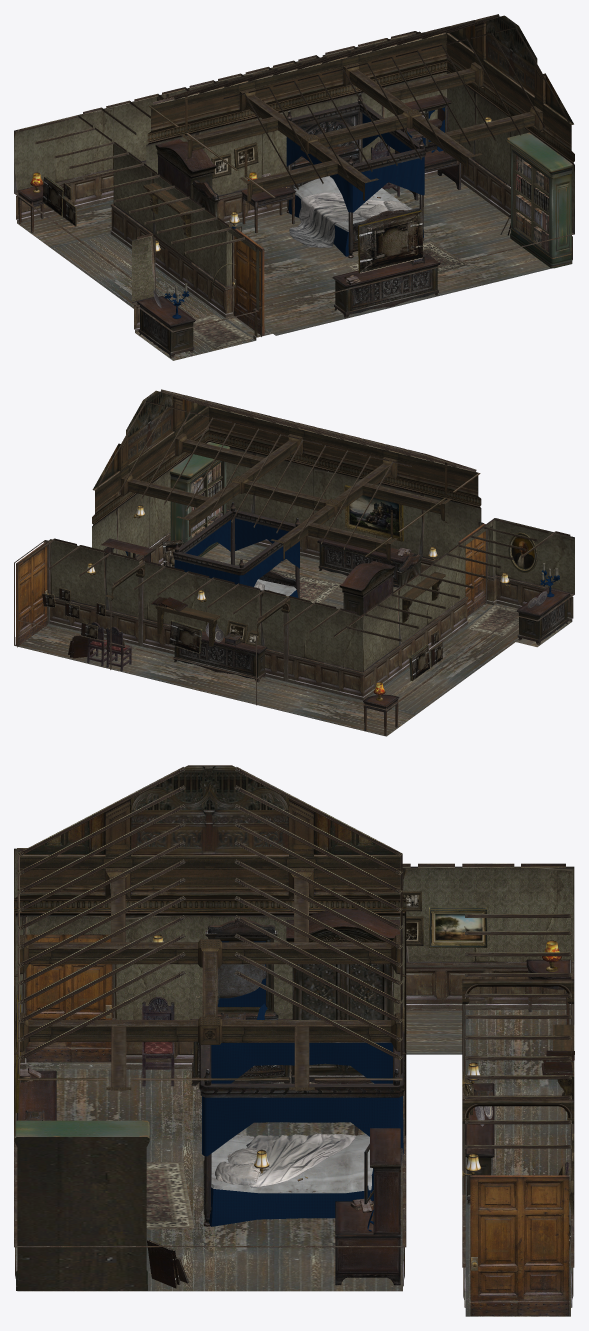
The model's file is room5.glb.
The picture shows the model from 3 angles, top to bottom: view 1: azimuth 30°, elevation 25°; view 2: azimuth 150°, elevation 25°; view 3: azimuth 270°, elevation 25°; orthographic projection. The views are drawn at different scales.
Parts seen in each view (by area): view 1: FrontSide_10, FrontSide_2, FrontSide_12, FrontSide_16, FrontSide_9, FrontSide_19, FrontSide_5, FrontSide_20, BackSide_2, FrontSide_13, FrontSide_1, FrontSide_6 (+1 smaller); view 2: FrontSide_12, FrontSide_10, FrontSide_2, FrontSide_16, FrontSide_19, FrontSide_9, FrontSide_20, FrontSide_6, BackSide_2, FrontSide_5, FrontSide_13, FrontSide_17; view 3: FrontSide_10, FrontSide_2, FrontSide_16, FrontSide_9, FrontSide_5, FrontSide_12, FrontSide_6, BackSide_2, FrontSide_13, FrontSide_19, FrontSide_20, FrontSide_1 (+3 smaller).
Boxes of the visible parts, x1,y1,x2,y2 form: FrontSide_10: (143,21,574,237); FrontSide_2: (17,173,551,360); FrontSide_12: (14,31,574,310); FrontSide_16: (17,93,460,358); FrontSide_9: (18,14,569,263); FrontSide_19: (14,32,574,356); FrontSide_5: (344,132,572,284); FrontSide_20: (42,142,510,303); BackSide_2: (164,107,444,318); FrontSide_13: (449,15,573,123); FrontSide_1: (289,192,408,247); FrontSide_6: (232,228,264,335); FrontSide_12: (50,441,574,672); FrontSide_10: (92,396,481,646); FrontSide_2: (14,543,571,736); FrontSide_16: (87,502,569,735); FrontSide_19: (14,509,574,733); FrontSide_9: (22,389,570,641); FrontSide_20: (42,485,537,681); FrontSide_6: (15,523,485,645); BackSide_2: (113,518,559,597); FrontSide_5: (170,442,411,556); FrontSide_13: (93,390,206,489); FrontSide_17: (271,569,518,636); FrontSide_10: (14,799,574,1135); FrontSide_2: (17,1010,570,1316); FrontSide_16: (17,908,571,1285); FrontSide_9: (16,767,571,1166); FrontSide_5: (14,1067,373,1290); FrontSide_12: (14,848,574,1020); FrontSide_6: (26,934,569,1315); BackSide_2: (202,941,403,1231); FrontSide_13: (24,765,395,854); FrontSide_19: (14,934,574,1307); FrontSide_20: (15,891,574,1288); FrontSide_1: (215,1133,355,1187).
Bounding box in the file's own units: 12.14 × 5.27 × 8.8.
22 materials, 22 textured.
